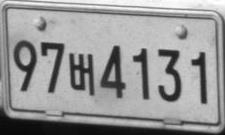1: (189, 51, 215, 104), (130, 47, 154, 100)
3: (157, 48, 182, 102)
4: (99, 44, 126, 98)
7: (40, 40, 65, 93)
9: (12, 38, 37, 91)
버: (68, 52, 95, 96)
